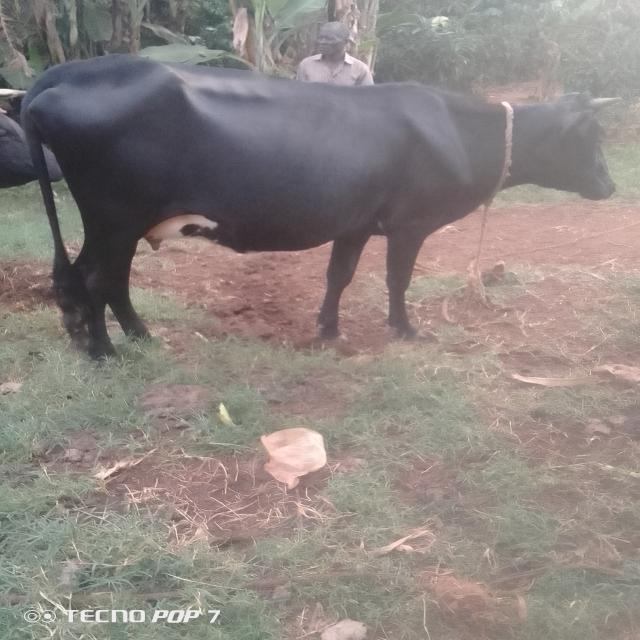Right: (20, 52, 623, 367)
